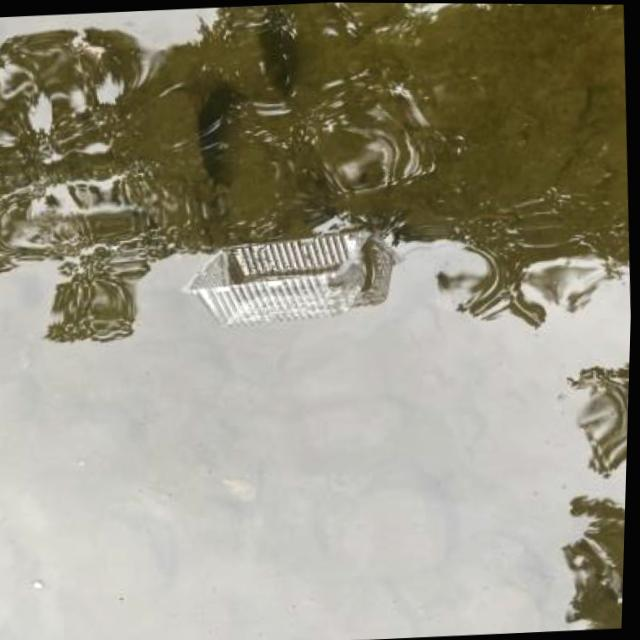Plastic: (173, 221, 392, 332)
